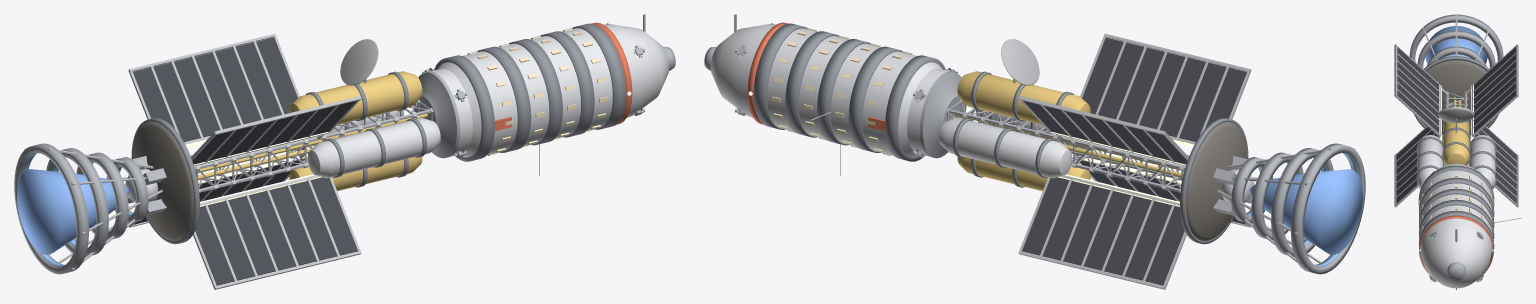
Rendered from TorchShip.fbx.
3 views of the same model, side by side, from view 1: azimuth 30°, elevation 25°; view 2: azimuth 150°, elevation 25°; view 3: azimuth 270°, elevation 25° (orthographic). The views are drawn at different scales.
Visible parts, largest first — view 1: Body, Engine; view 2: Body, Engine; view 3: Body, Engine.
Boxes of the visible parts, x1,y1,x2,y2 form: Body: [14, 14, 675, 289]; Engine: [17, 169, 130, 254]; Body: [704, 14, 1365, 289]; Engine: [1249, 169, 1362, 254]; Body: [1394, 14, 1521, 289]; Engine: [1425, 26, 1487, 63].
Size of the model in its own units: 2.01 by 0.529 by 0.4893.
